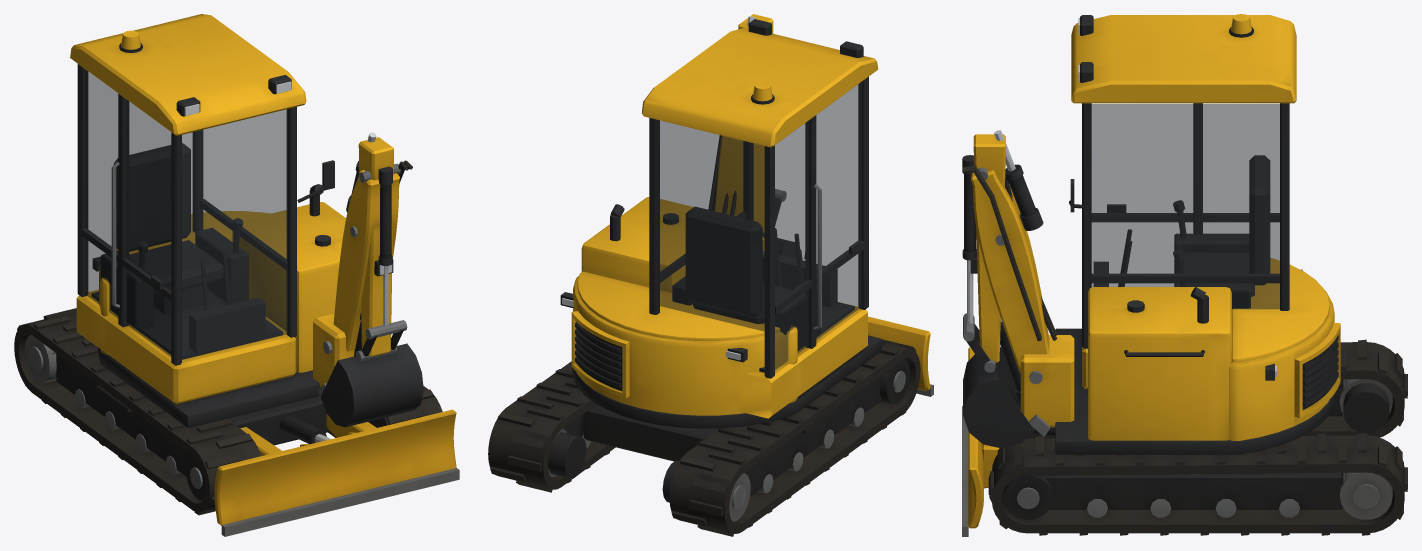
Rendered from digger.glb.
3 renders of one model, left to right at view 1: azimuth 30°, elevation 25°; view 2: azimuth 150°, elevation 25°; view 3: azimuth 270°, elevation 25°, orthographic. The views are drawn at different scales.
Visible parts, largest first — view 1: digger_lod0; view 2: digger_lod0; view 3: digger_lod0.
Part boxes in pixels (<box>): digger_lod0: <box>14,14,459,536</box>; digger_lod0: <box>488,14,933,536</box>; digger_lod0: <box>962,14,1407,536</box>.
Size of what is drawn, in the model's own units: 1.5 by 2.4 by 2.32.
Materials: 6 (5 with a texture image).
